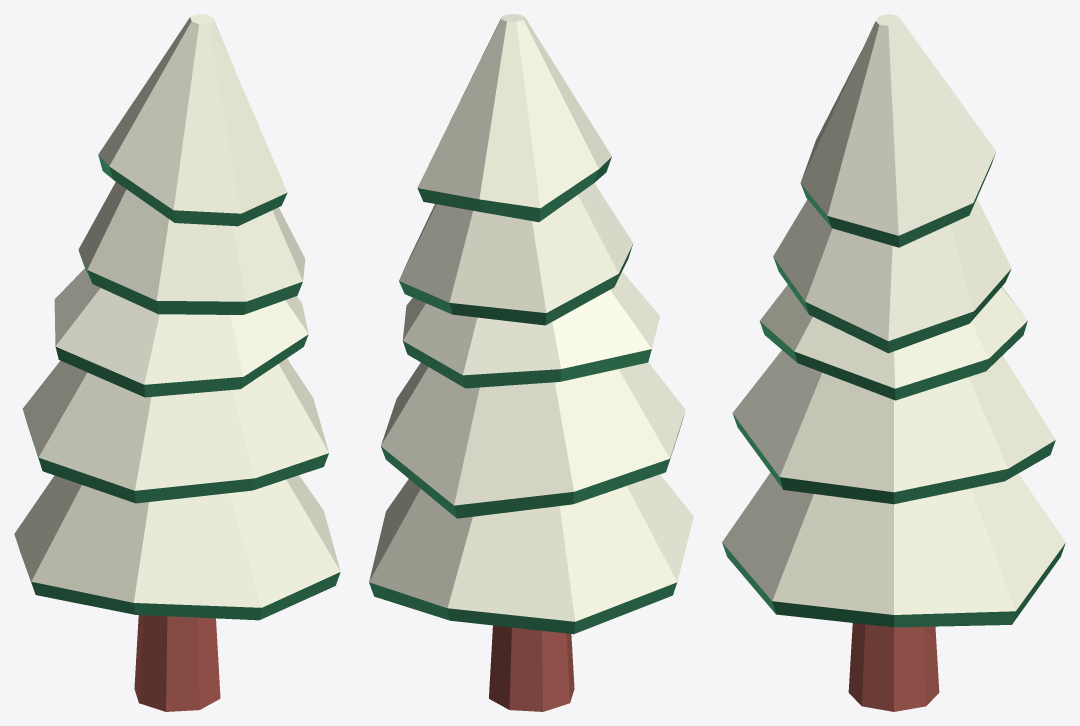
The model's file is Tree2_winter.FBX.
The picture shows the model from 3 angles, left to right: view 1: azimuth 30°, elevation 25°; view 2: azimuth 150°, elevation 25°; view 3: azimuth 270°, elevation 25°; orthographic projection. The views are drawn at different scales.
Visible parts, largest first — view 1: Tree 2 winter; view 2: Tree 2 winter; view 3: Tree 2 winter.
Boxes of the visible parts, x1,y1,x2,y2 form: Tree 2 winter: (14,14,340,711); Tree 2 winter: (369,14,693,711); Tree 2 winter: (722,14,1065,711).
Bounding box in the file's own units: 3.26 × 7.15 × 3.26.
